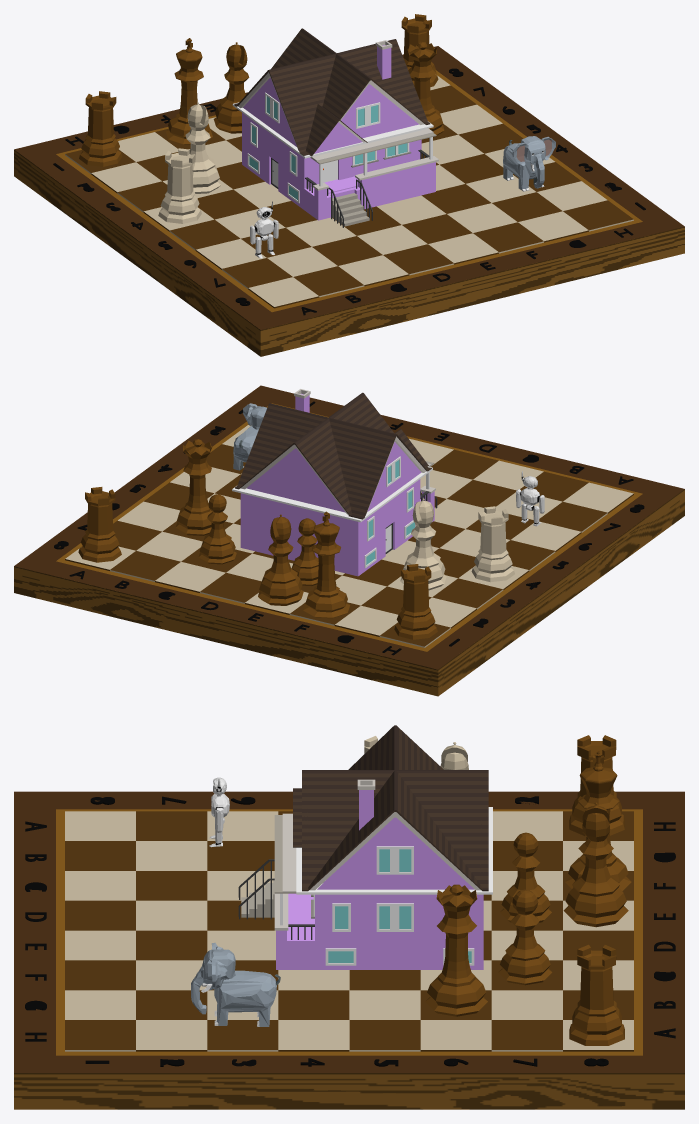
The picture shows the model from 3 angles, top to bottom: view 1: azimuth 30°, elevation 25°; view 2: azimuth 150°, elevation 25°; view 3: azimuth 270°, elevation 25°; orthographic projection. The views are drawn at different scales.
Visible parts, largest first — view 1: Cube.002, Cube.391, ANIMAL_ELEFANTE, OBJRANDOM_PLATZEEBOT; view 2: Cube.002, Cube.391, ANIMAL_ELEFANTE, OBJRANDOM_PLATZEEBOT; view 3: Cube.002, Cube.391, ANIMAL_ELEFANTE, OBJRANDOM_PLATZEEBOT.
Boxes of the visible parts, left/top/right/bottom form: Cube.002: left=14, top=14, right=684, bottom=356; Cube.391: left=232, top=28, right=438, bottom=227; ANIMAL_ELEFANTE: left=503, top=136, right=555, bottom=191; OBJRANDOM_PLATZEEBOT: left=250, top=201, right=278, bottom=258; Cube.002: left=14, top=385, right=684, bottom=696; Cube.391: left=232, top=389, right=437, bottom=576; ANIMAL_ELEFANTE: left=233, top=403, right=266, bottom=470; OBJRANDOM_PLATZEEBOT: left=516, top=471, right=544, bottom=526; Cube.002: left=14, top=735, right=684, bottom=1109; Cube.391: left=238, top=725, right=492, bottom=969; ANIMAL_ELEFANTE: left=191, top=942, right=280, bottom=1026; OBJRANDOM_PLATZEEBOT: left=209, top=777, right=229, bottom=847.
Bounding box in the file's own units: 3981 × 1484 × 4012.
Materials: 32 (2 with a texture image).
